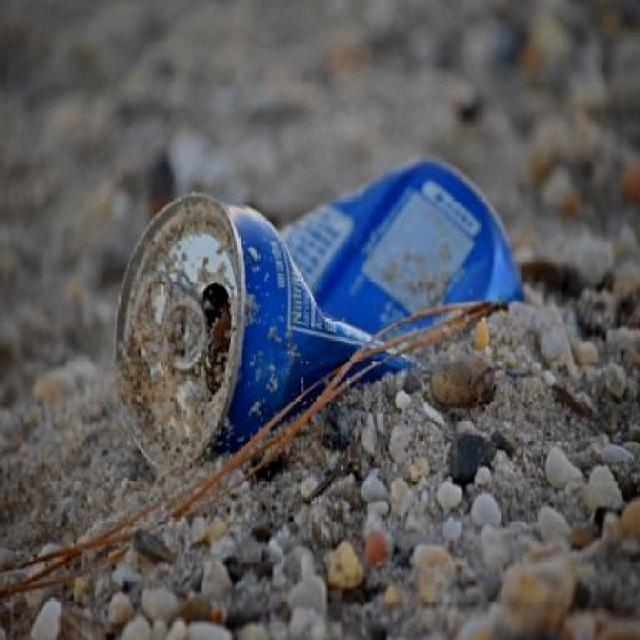metal-can: (115, 149, 531, 489)
